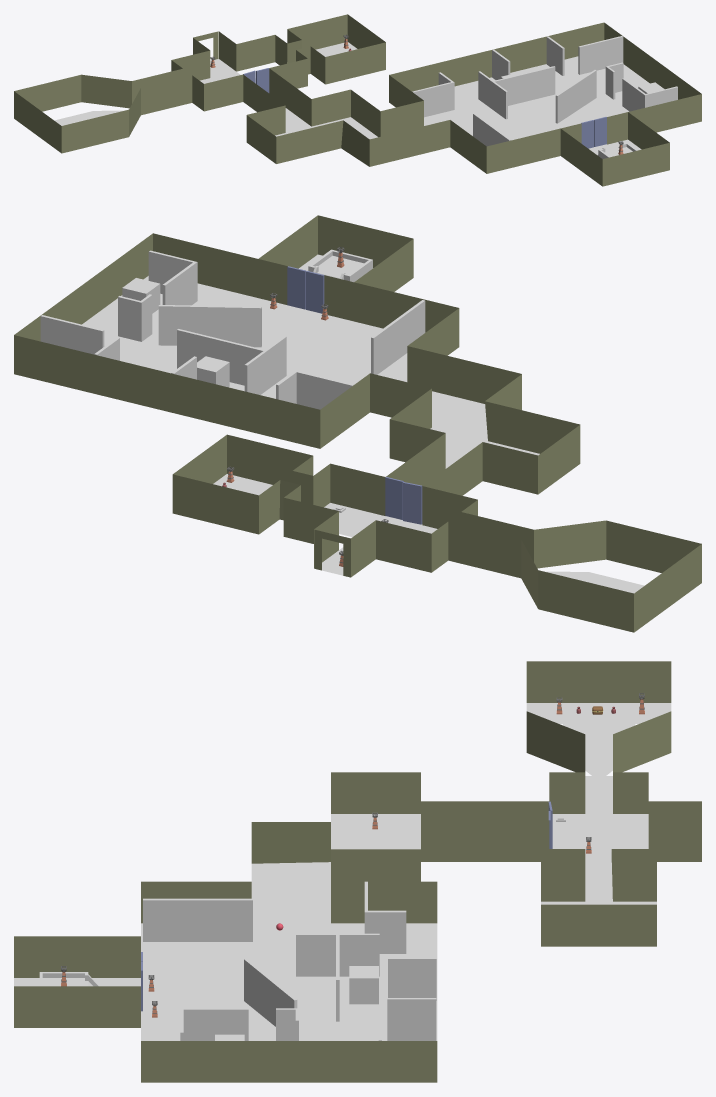
File: MapaPrototipo.fbx
The picture shows the model from 3 angles, top to bottom: view 1: azimuth 30°, elevation 25°; view 2: azimuth 150°, elevation 25°; view 3: azimuth 270°, elevation 25°; orthographic projection. The views are drawn at different scales.
Visible parts, largest first — view 1: Plane, Cube.015, Cube.020, Cube.018, Cube.014, Cube.023, Cube.019, Cube.021, Cube.017, Cube.016, Cube.027, Cube.026 (+1 smaller); view 2: Plane, Cube.015, Cube.018, Cube.019, Cube.023, Cube.014, Cube.020, Cube.021, Cube.025, Cube.028, Plane.001, Cube.004 (+4 smaller); view 3: Plane, Cube.019, Cube.015, Cube.017, Cube.023, Cube.016, Cube.018, Cube.014, Cube.028, Cube.021, Cube.025.
Boxes of the visible parts, left/top/right/bottom form: Plane: left=14, top=14, right=701, bottom=186; Cube.015: left=478, top=66, right=555, bottom=119; Cube.020: left=578, top=36, right=623, bottom=74; Cube.018: left=555, top=70, right=596, bottom=123; Cube.014: left=412, top=72, right=454, bottom=117; Cube.023: left=622, top=78, right=677, bottom=111; Cube.019: left=473, top=113, right=511, bottom=146; Cube.021: left=605, top=62, right=623, bottom=99; Cube.017: left=546, top=36, right=564, bottom=75; Cube.016: left=492, top=49, right=510, bottom=79; Cube.027: left=594, top=117, right=606, bottom=146; Cube.026: left=581, top=120, right=593, bottom=148; Plane: left=14, top=215, right=701, bottom=632; Cube.015: left=177, top=329, right=286, bottom=394; Cube.018: left=158, top=305, right=261, bottom=347; Cube.019: left=371, top=300, right=425, bottom=374; Cube.023: left=148, top=250, right=197, bottom=305; Cube.014: left=276, top=370, right=353, bottom=409; Cube.020: left=40, top=315, right=104, bottom=354; Cube.021: left=118, top=294, right=152, bottom=341; Cube.025: left=308, top=249, right=372, bottom=282; Cube.028: left=197, top=356, right=229, bottom=387; Plane.001: left=314, top=529, right=350, bottom=577; Cube.004: left=403, top=482, right=422, bottom=524; Plane: left=14, top=661, right=701, bottom=1082; Cube.019: left=143, top=898, right=252, bottom=941; Cube.015: left=296, top=933, right=379, bottom=1021; Cube.017: left=387, top=998, right=436, bottom=1040; Cube.023: left=180, top=1008, right=248, bottom=1040; Cube.016: left=388, top=957, right=436, bottom=1000; Cube.018: left=244, top=958, right=297, bottom=1026; Cube.014: left=364, top=881, right=406, bottom=953; Cube.028: left=349, top=966, right=378, bottom=1004; Cube.021: left=276, top=1008, right=298, bottom=1040; Cube.025: left=39, top=972, right=99, bottom=986.
Size of the model in its own units: 24912 by 1306 by 19088.
